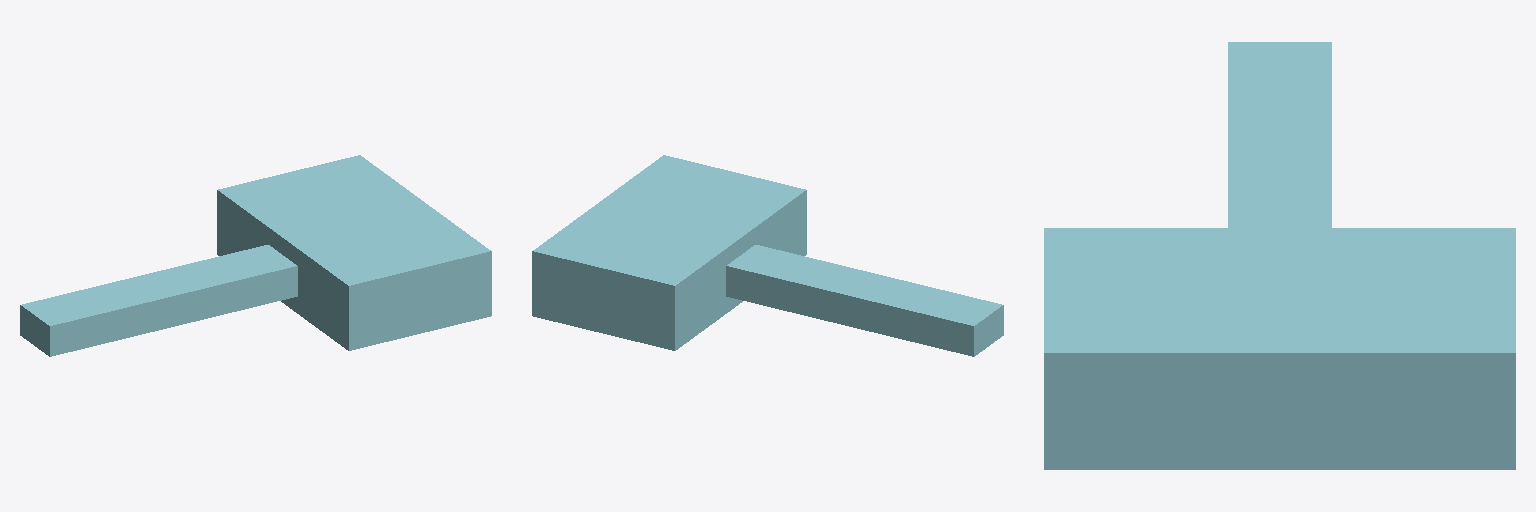
robot.urdf — cuboid_brush_v10002:
<?xml version="1.0"?>
<robot name="cuboid_brush_v10002">

  <link name="cuboid_brush_v10002">
    <!-- Handle -->
    <visual>
      <origin xyz="0 0 0" rpy="0 0 0"/>
      <geometry>
        <box size="0.1065808974324506 0.021823209477793558 0.012622173860524397"/>
      </geometry>
      <material name="material">
        <color rgba="0.639 0.847 0.882 1.0"/>
      </material>
    </visual>
    <collision>
      <origin xyz="0 0 0" rpy="0 0 0"/>
      <geometry>
        <box size="0.1065808974324506 0.021823209477793558 0.012622173860524397"/>
      </geometry>
    </collision>

    <!-- Head -->
    <visual>
      <origin xyz="0.08399095123563471 0 0" rpy="0 0 0"/>
      <geometry>
        <box size="0.061401005038818846 0.0979193451375574 0.026789555084178053"/>
      </geometry>
      <material name="material">
        <color rgba="0.639 0.847 0.882 1.0"/>
      </material>
    </visual>
    <collision>
      <origin xyz="0.08399095123563471 0 0" rpy="0 0 0"/>
      <geometry>
        <box size="0.061401005038818846 0.0979193451375574 0.026789555084178053"/>
      </geometry>
    </collision>

    <inertial>
      <density value="400.0"/>
    </inertial>
  </link>

</robot>

--- Facts derived from the render (not from the file) ---
3 views of the same robot in one strip: view 1: azimuth 30°, elevation 25°; view 2: azimuth 150°, elevation 25°; view 3: azimuth 270°, elevation 25° (orthographic).
Robot: cuboid_brush_v10002 — 1 links, 0 joints (none); root link cuboid_brush_v10002; default pose: all joints at 0.
Visible links, largest first — view 1: cuboid_brush_v10002; view 2: cuboid_brush_v10002; view 3: cuboid_brush_v10002.
Boxes of the visible links, x1=… form: cuboid_brush_v10002: x1=20, y1=155, x2=491, y2=356; cuboid_brush_v10002: x1=532, y1=155, x2=1003, y2=356; cuboid_brush_v10002: x1=1044, y1=42, x2=1515, y2=469.
Bounding box of the posed robot: 0.168 × 0.0979 × 0.0268 m (x, y, z).
Geometry: primitives only (box / cylinder / sphere), no mesh files.
